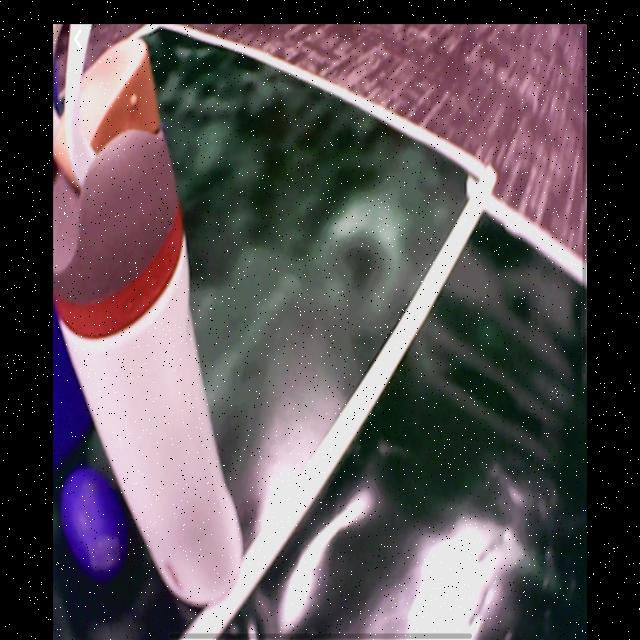ball: (60, 470, 128, 576)
